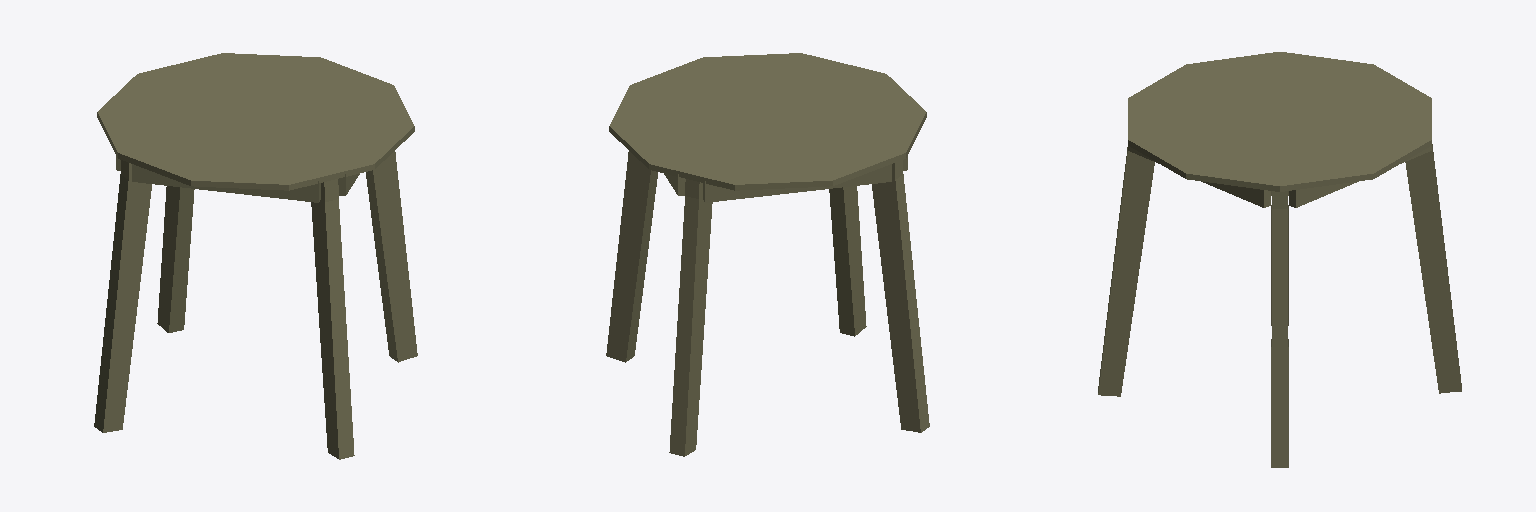
Rendered from HomeTable_Mesh.obj.
3 renders of one model, left to right at view 1: azimuth 30°, elevation 25°; view 2: azimuth 150°, elevation 25°; view 3: azimuth 270°, elevation 25°, orthographic.
Parts seen in each view (by area): view 1: TableTopShape; view 2: TableTopShape; view 3: TableTopShape.
Boxes of the visible parts, x1,y1,x2,y2 form: TableTopShape: [94, 53, 417, 459]; TableTopShape: [606, 53, 929, 456]; TableTopShape: [1098, 52, 1461, 467].
Bounding box in the file's own units: 3.76 × 3.13 × 3.76.